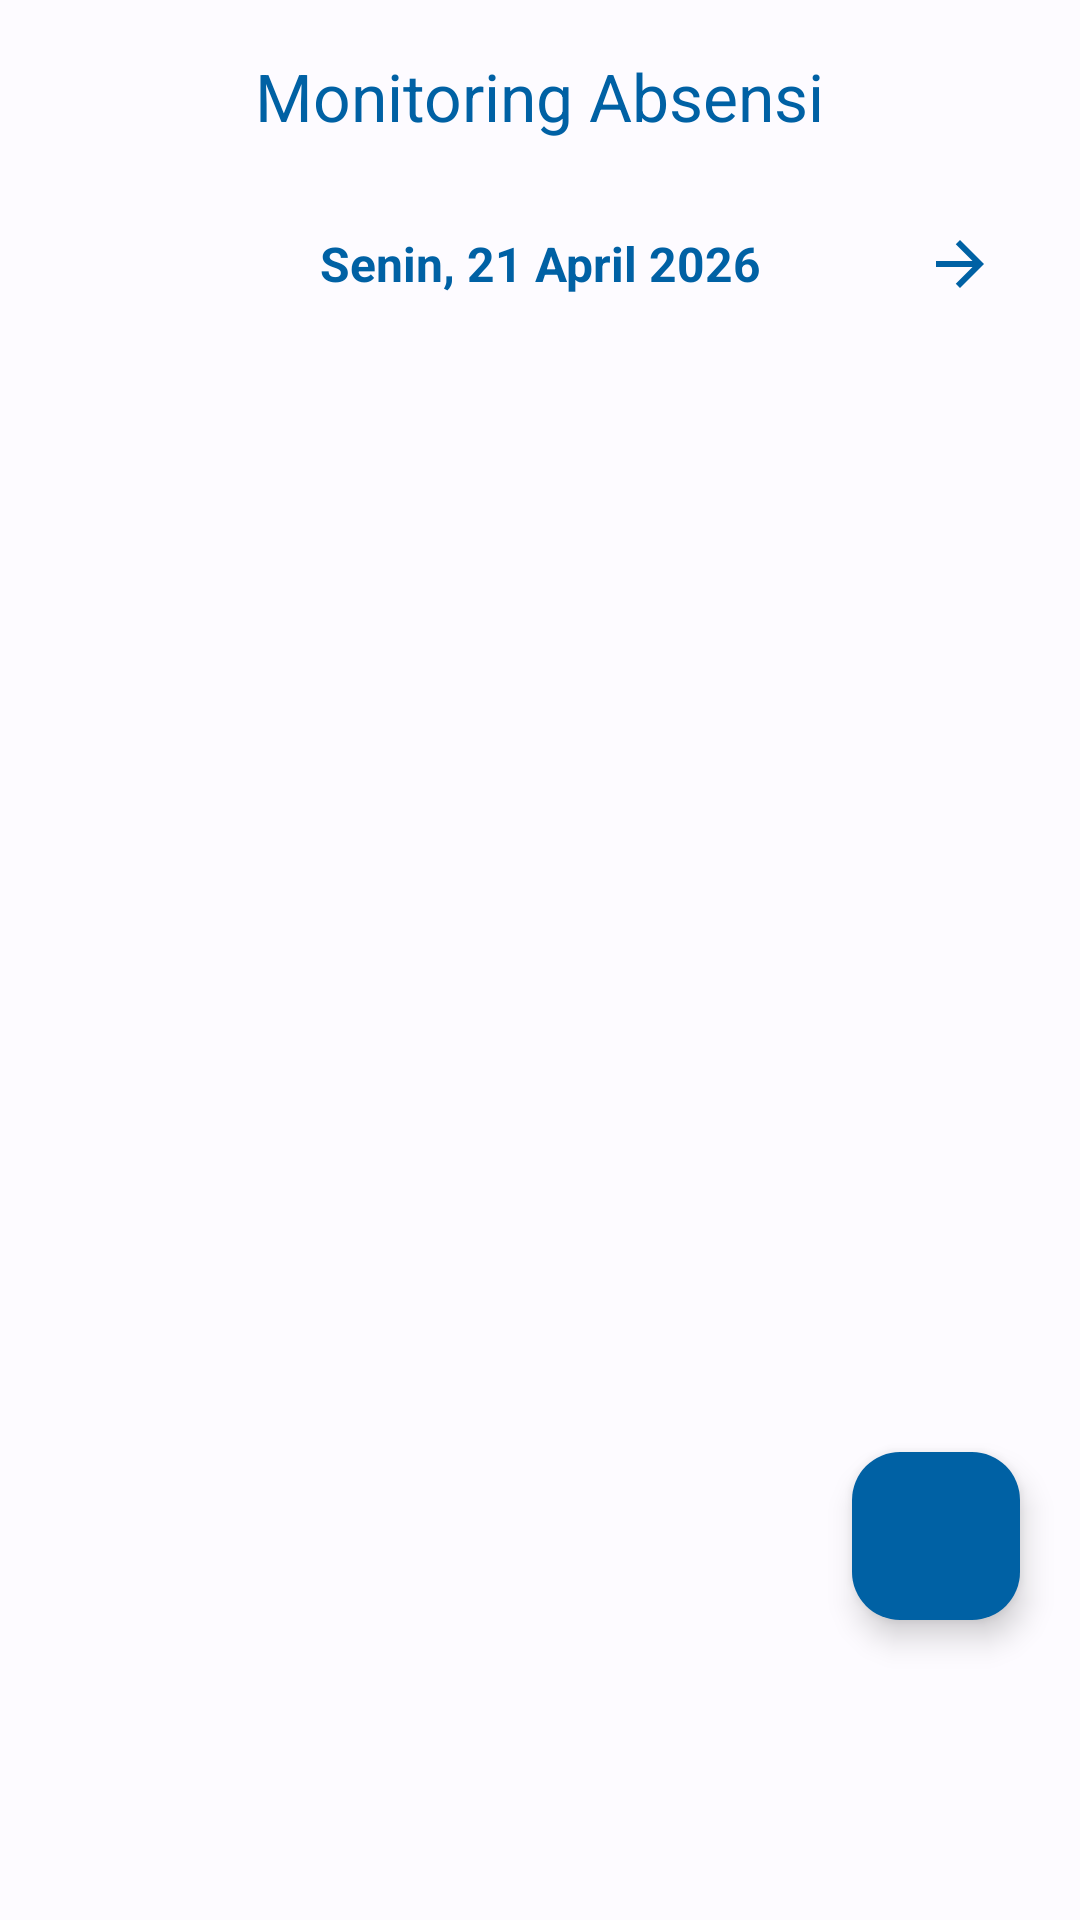

Named icons in this screenshot (1080*1920) and their centers, [x,y]:
arrow forward: [960,264]
